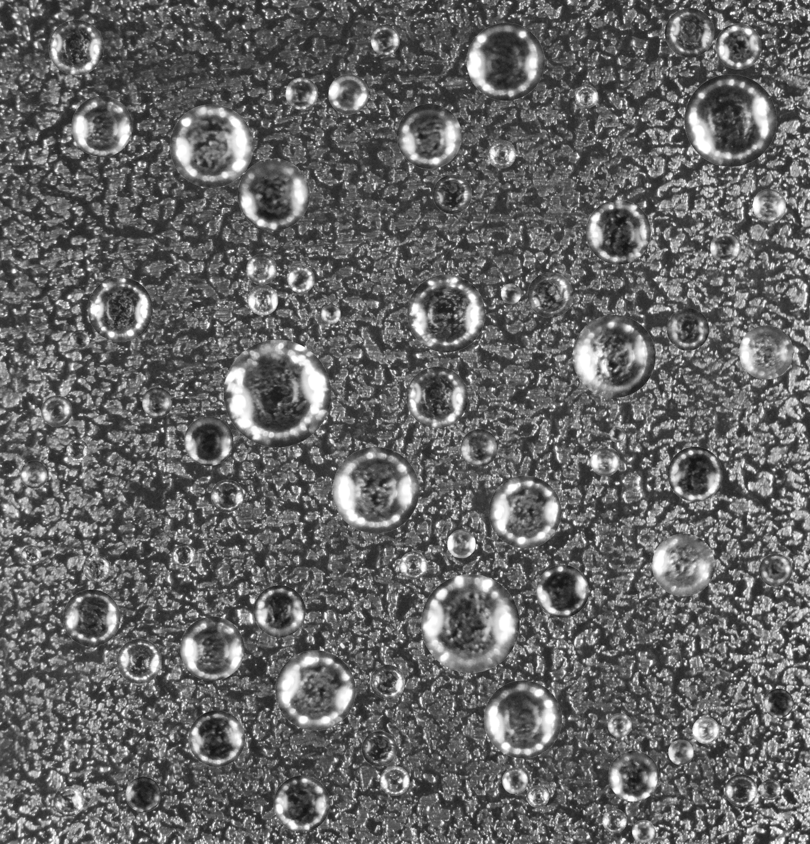Bubble: (223, 339, 331, 447), (421, 574, 519, 672), (684, 74, 776, 166), (332, 447, 419, 533), (169, 104, 253, 187), (572, 315, 655, 397), (275, 650, 355, 730), (466, 22, 544, 100), (407, 274, 485, 352), (484, 680, 561, 758), (488, 475, 561, 548), (237, 158, 309, 230), (396, 103, 461, 168), (586, 199, 650, 264), (87, 277, 152, 341), (180, 616, 244, 680), (652, 533, 714, 596), (406, 366, 467, 428), (71, 96, 132, 156), (63, 589, 120, 646), (188, 710, 244, 766), (273, 775, 329, 831), (48, 19, 103, 75), (667, 446, 722, 501), (739, 325, 793, 379), (253, 585, 305, 637), (536, 565, 588, 617), (608, 751, 659, 801), (184, 416, 233, 465), (665, 8, 714, 57), (715, 23, 761, 69), (527, 272, 573, 317), (116, 638, 161, 683), (666, 308, 709, 350), (328, 74, 368, 114), (432, 174, 471, 213), (460, 429, 498, 466), (361, 731, 397, 766), (125, 776, 160, 812), (370, 665, 405, 699), (752, 189, 786, 222), (210, 479, 243, 512), (759, 553, 792, 586), (285, 77, 317, 109), (725, 774, 757, 806), (41, 395, 72, 426), (247, 285, 278, 315), (246, 254, 276, 284), (142, 387, 172, 417), (590, 446, 620, 476), (710, 232, 740, 262), (53, 786, 83, 816), (379, 766, 409, 795), (764, 688, 793, 718), (370, 26, 399, 55), (447, 529, 475, 558), (399, 551, 427, 579), (487, 140, 515, 168), (20, 460, 48, 488), (83, 554, 110, 582), (287, 265, 314, 292), (692, 717, 719, 743), (502, 768, 528, 794), (668, 739, 693, 765), (602, 808, 626, 833), (607, 713, 631, 737), (575, 85, 598, 108), (632, 820, 655, 843), (172, 544, 195, 566), (526, 785, 549, 807), (66, 439, 88, 460), (760, 779, 780, 800), (501, 283, 521, 303), (21, 545, 41, 565), (69, 330, 89, 349), (321, 304, 340, 324), (609, 427, 624, 442), (31, 358, 40, 368), (251, 565, 260, 575), (662, 390, 671, 399)
